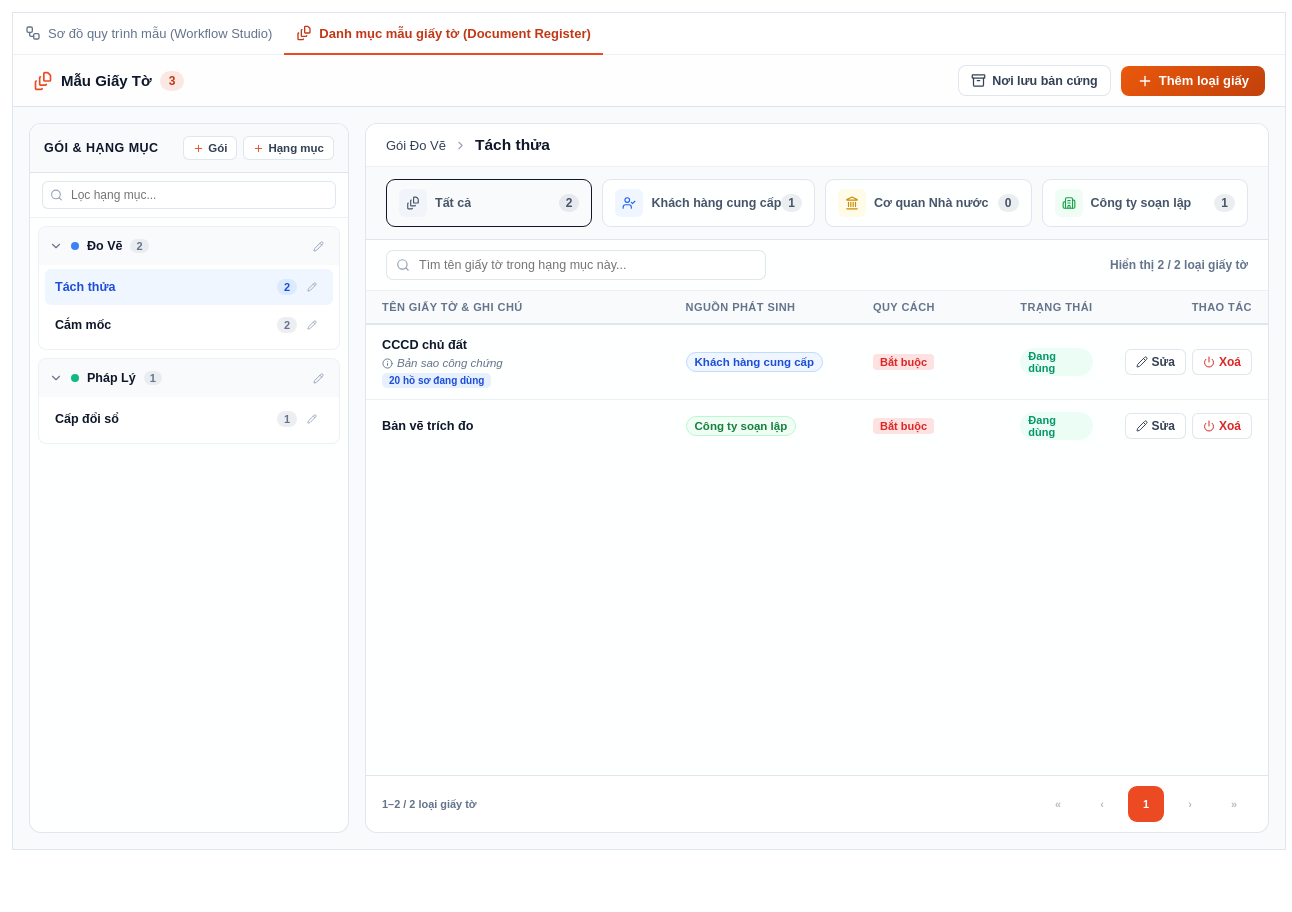
Test: DocumentTemplateSettings — Bố cục 2 vùng Enterprise › Workspace mặc định hiển thị Tất cả giấy tờ trong hạng mục và cho phép lọc theo nguồn
Check: the heading "Tách thửa" is shown, box x1=475 y1=136 x2=550 y2=154
Check: the text "CCCD chủ đất" is shown, box x1=382 y1=338 x2=467 y2=352
Click the tab "Khách hàng cung cấp 1": (709,203) x1=602 y1=179 x2=815 y2=227
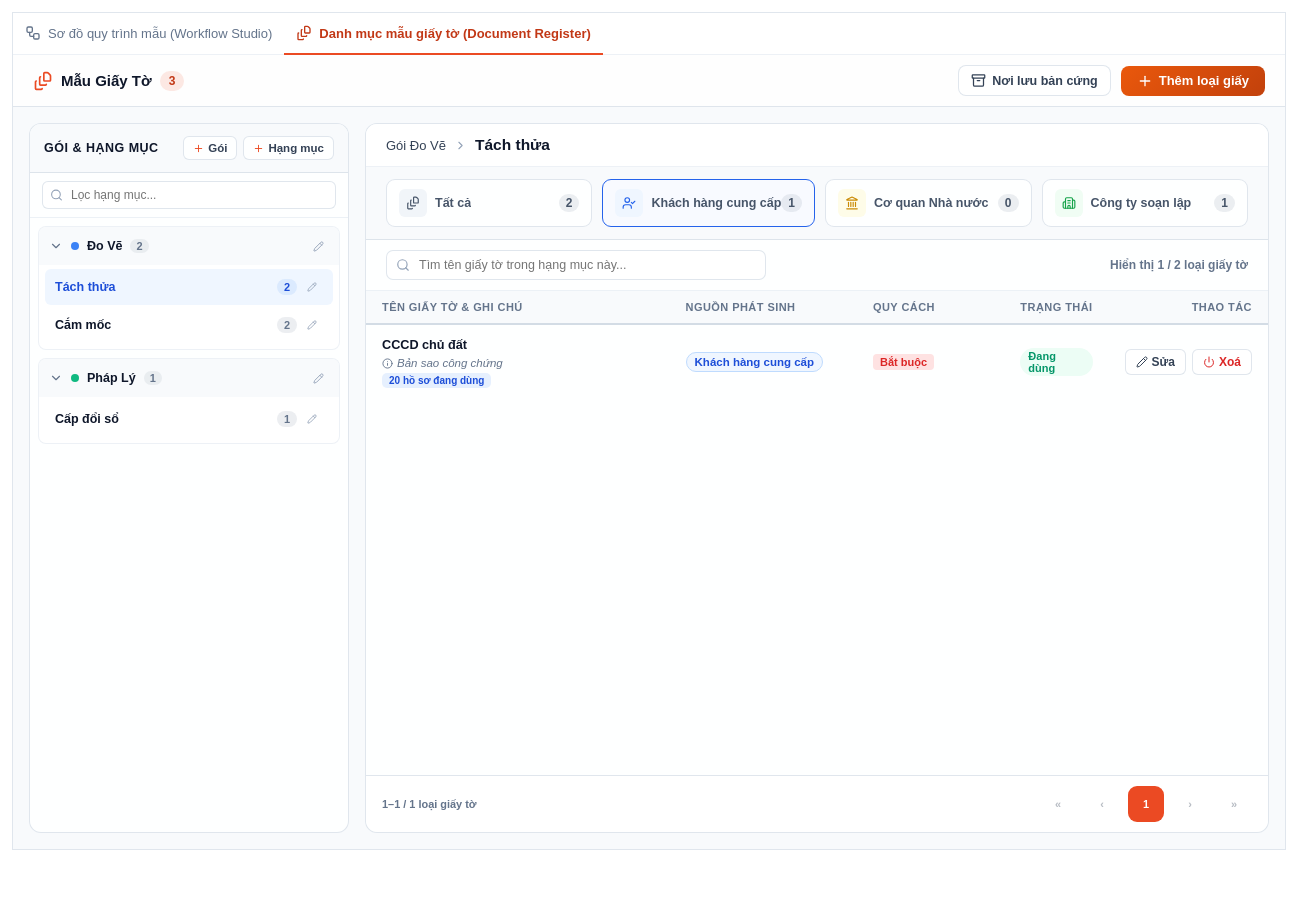
Check: the text "CCCD chủ đất" is shown, box x1=382 y1=338 x2=467 y2=352
Check: the text "Bản vẽ trích đo" is gone
Click the tab "Công ty soạn lập 1": (1145,203) x1=1042 y1=179 x2=1248 y2=227
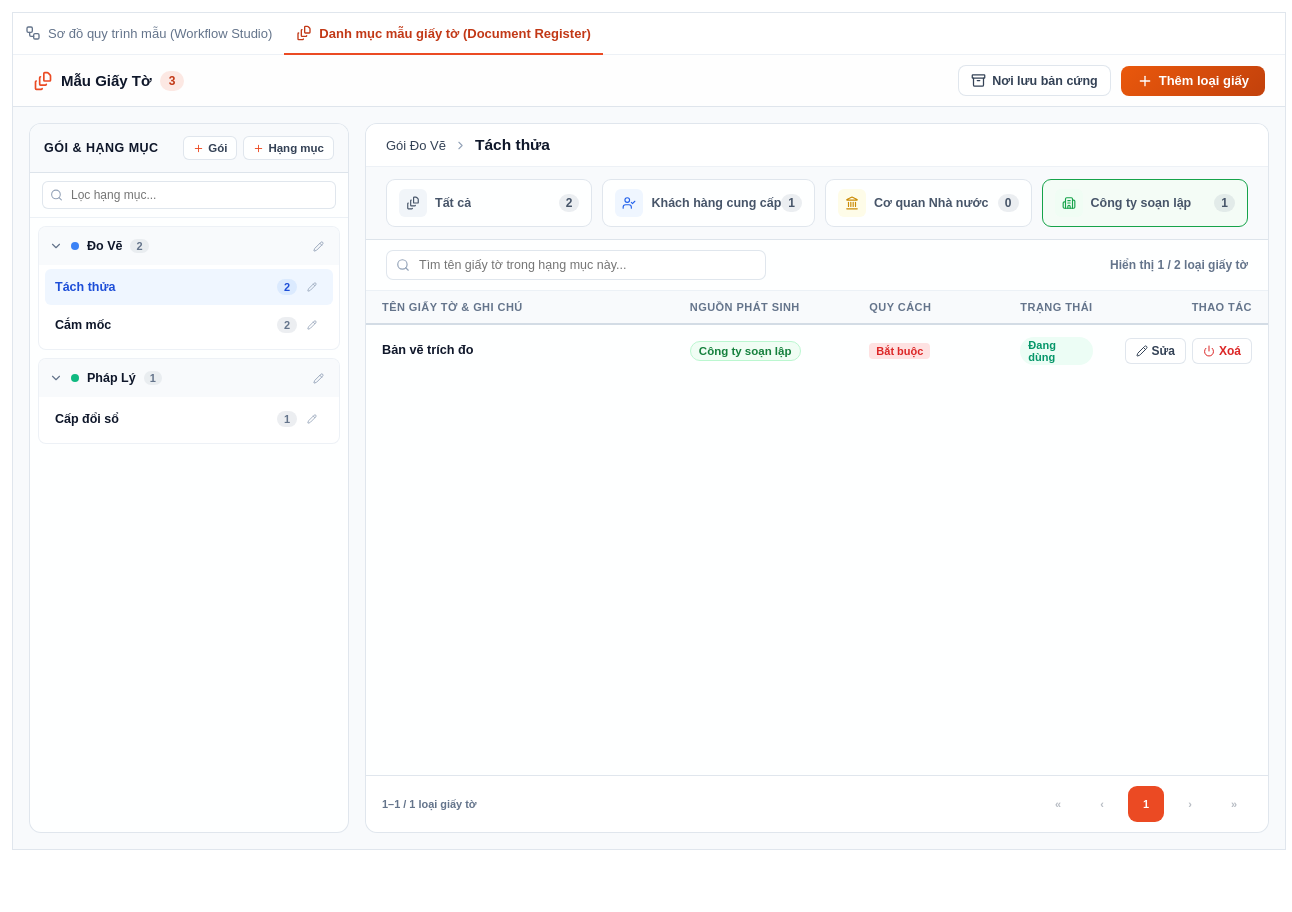
Check: the text "CCCD chủ đất" is gone
Check: the text "Bản vẽ trích đo" is shown, box x1=382 y1=344 x2=473 y2=358
